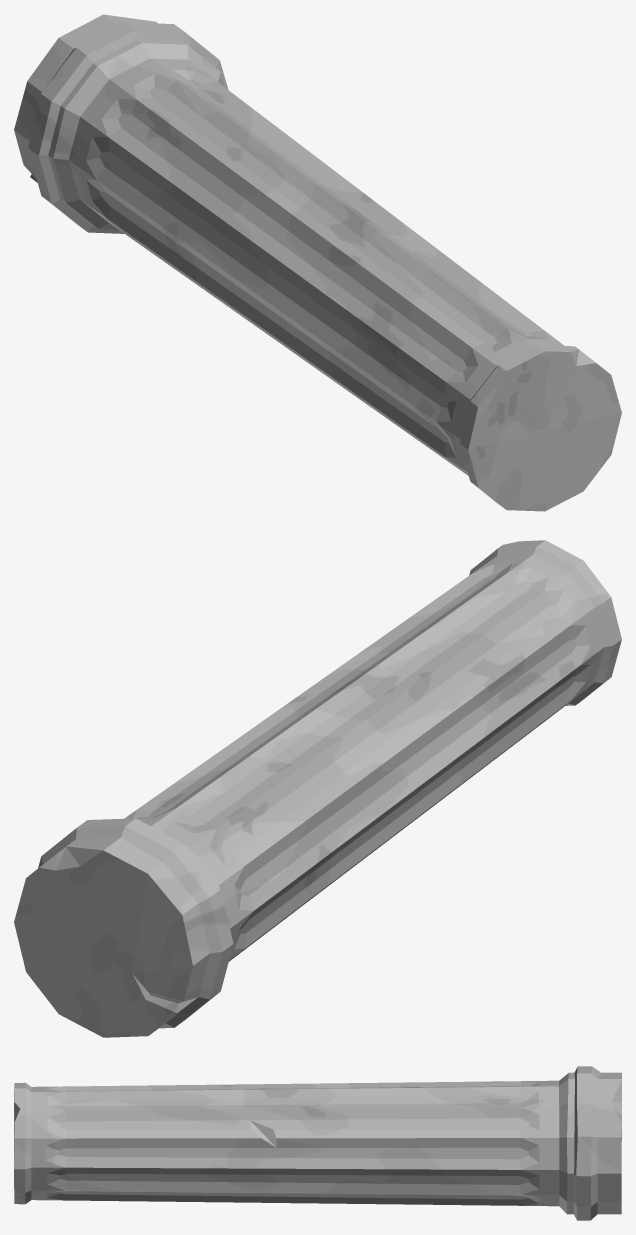
Rendered from ancient_SM_Prop_Marble_Block_04.gltf.
The picture shows the model from 3 angles, top to bottom: view 1: azimuth 30°, elevation 25°; view 2: azimuth 150°, elevation 25°; view 3: azimuth 270°, elevation 25°; orthographic projection. The views are drawn at different scales.
Visible parts, largest first — view 1: SM_Prop_Marble_Block_04; view 2: SM_Prop_Marble_Block_04; view 3: SM_Prop_Marble_Block_04.
Boxes of the visible parts, box(x1,y1,x2,y2) form: SM_Prop_Marble_Block_04: box(14, 14, 621, 511); SM_Prop_Marble_Block_04: box(14, 540, 621, 1037); SM_Prop_Marble_Block_04: box(14, 1066, 621, 1220).
Size of the model in its own units: 0.6969 by 0.6967 by 2.74.
1 material, 1 textured.
